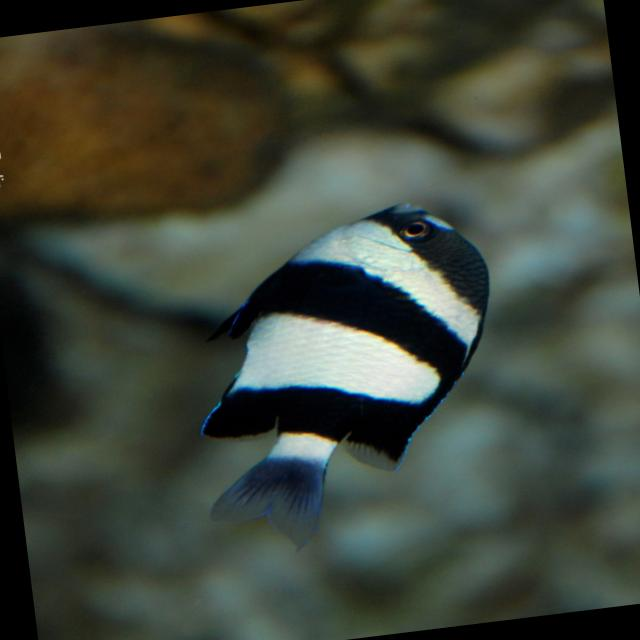ThreeStripedDamselfish: (195, 202, 488, 550)
